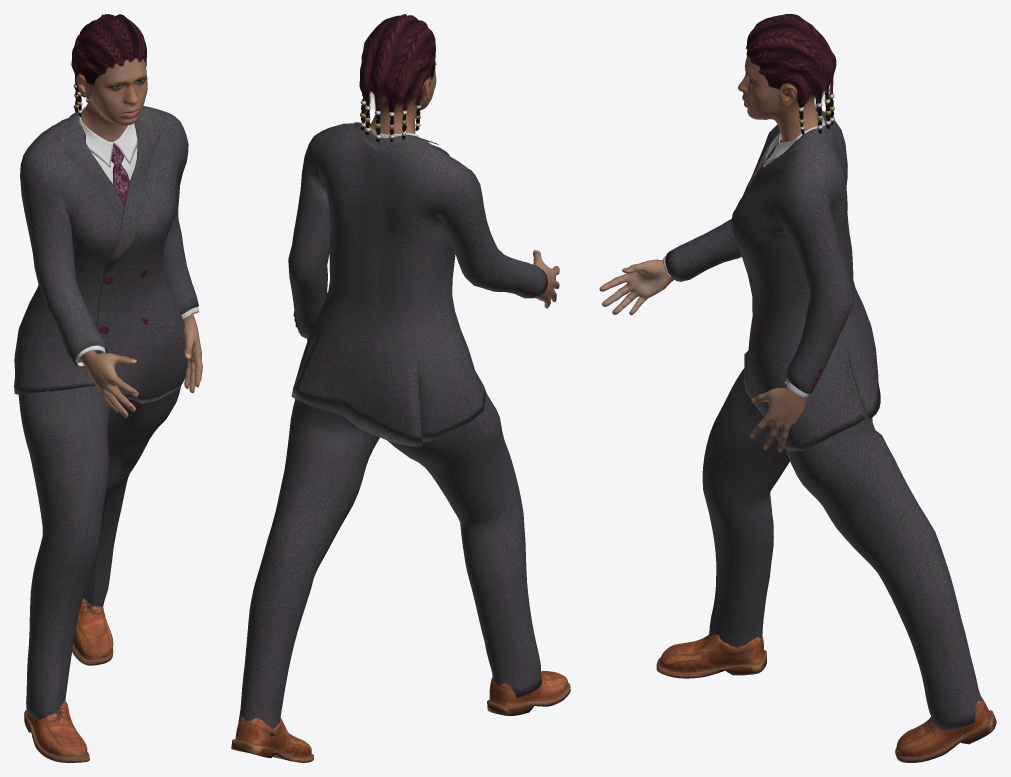
The model's file is donna-02.glb.
3 views of the same model, side by side, from view 1: azimuth 30°, elevation 25°; view 2: azimuth 150°, elevation 25°; view 3: azimuth 270°, elevation 25° (orthographic). The views are drawn at different scales.
Parts seen in each view (by area): view 1: Human.toigo_female_double-breasted_suit, Human, Human.shoes01, Human.elvs_braided_rows; view 2: Human.toigo_female_double-breasted_suit, Human.elvs_braided_rows, Human.shoes01, Human; view 3: Human.toigo_female_double-breasted_suit, Human, Human.shoes01, Human.elvs_braided_rows.
Boxes of the visible parts, bbox=[...] form: Human.toigo_female_double-breasted_suit: bbox=[14, 106, 199, 720]; Human: bbox=[75, 58, 202, 418]; Human.shoes01: bbox=[24, 598, 113, 762]; Human.elvs_braided_rows: bbox=[71, 14, 146, 116]; Human.toigo_female_double-breasted_suit: bbox=[238, 122, 547, 736]; Human.elvs_braided_rows: bbox=[359, 14, 435, 141]; Human.shoes01: bbox=[231, 671, 570, 762]; Human: bbox=[307, 68, 559, 340]; Human.toigo_female_double-breasted_suit: bbox=[662, 107, 981, 730]; Human: bbox=[599, 56, 822, 452]; Human.shoes01: bbox=[656, 634, 996, 762]; Human.elvs_braided_rows: bbox=[745, 14, 836, 138].
Bounding box in the file's own units: 0.5345 × 1.73 × 0.8635.
12 materials, 12 textured.
